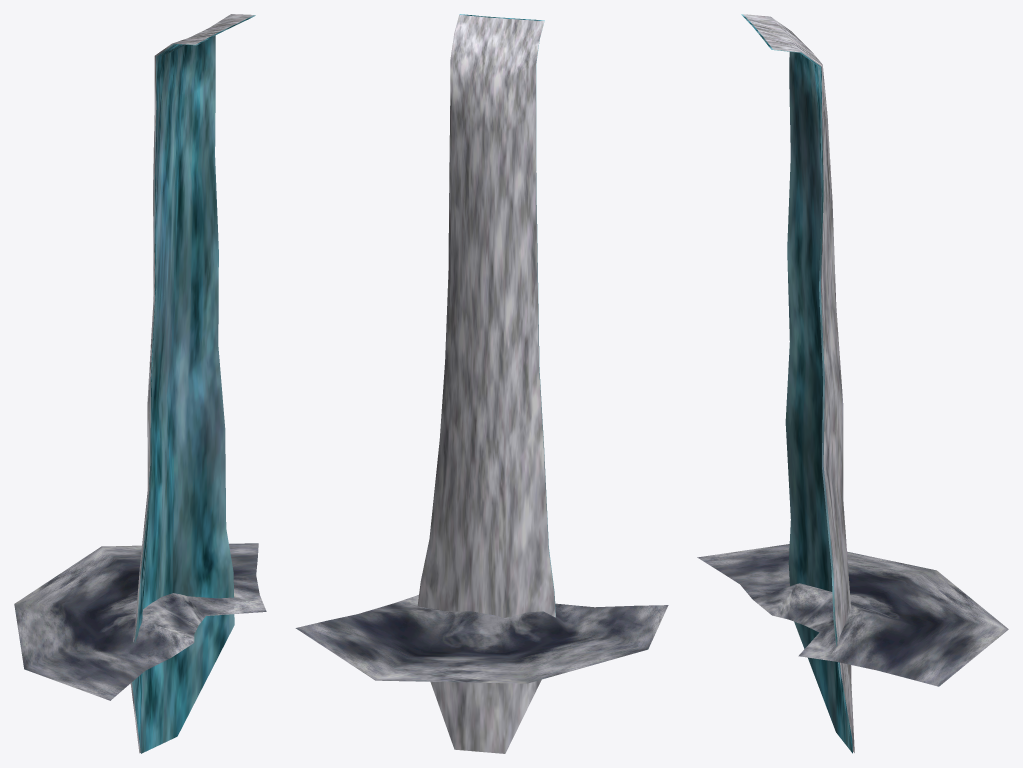
File: OVERHILL_A_01_WATERFALLS04.fbx
3 renders of one model, left to right at view 1: azimuth 30°, elevation 25°; view 2: azimuth 150°, elevation 25°; view 3: azimuth 270°, elevation 25°, orthographic. The views are drawn at different scales.
Visible parts, largest first — view 1: OVERHILL_A_01_WATERFALLS04; view 2: OVERHILL_A_01_WATERFALLS04; view 3: OVERHILL_A_01_WATERFALLS04.
Part boxes in pixels (x1,y1,x2,y2): OVERHILL_A_01_WATERFALLS04: [14, 14, 266, 753]; OVERHILL_A_01_WATERFALLS04: [295, 14, 668, 753]; OVERHILL_A_01_WATERFALLS04: [697, 14, 1008, 753].
Size of the model in its own units: 69114 by 160780 by 62968.
Materials: 3 (3 with a texture image).
